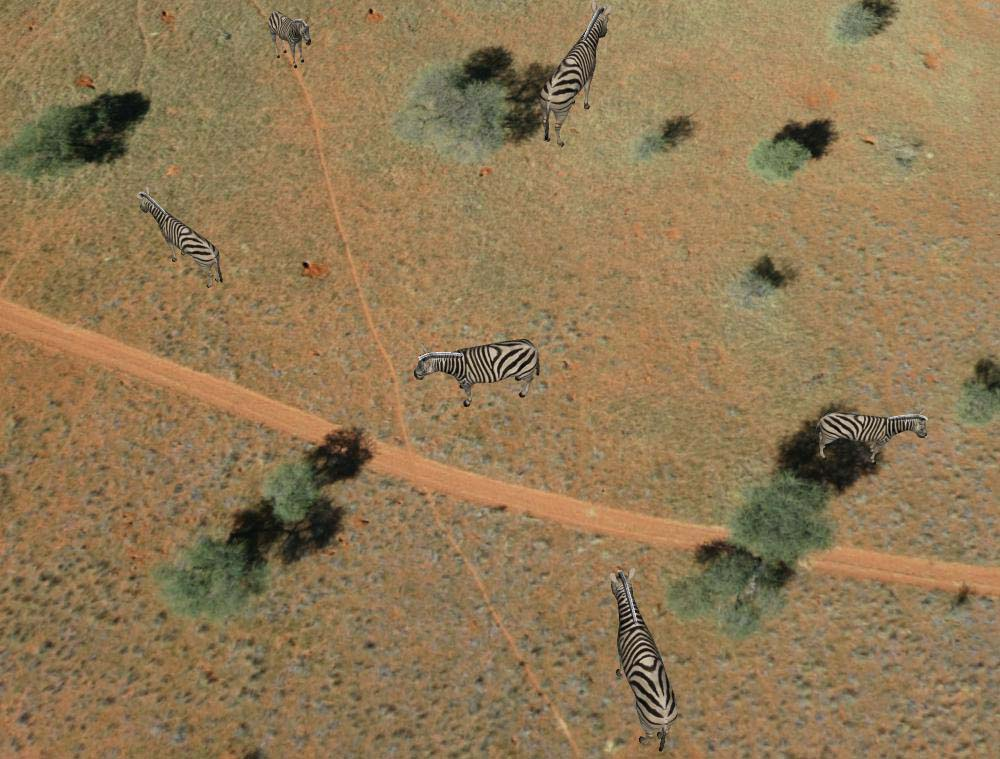zebra: (598, 565, 685, 758), (536, 7, 612, 145), (129, 188, 228, 283), (406, 339, 555, 400), (812, 412, 933, 475), (259, 5, 313, 70)
